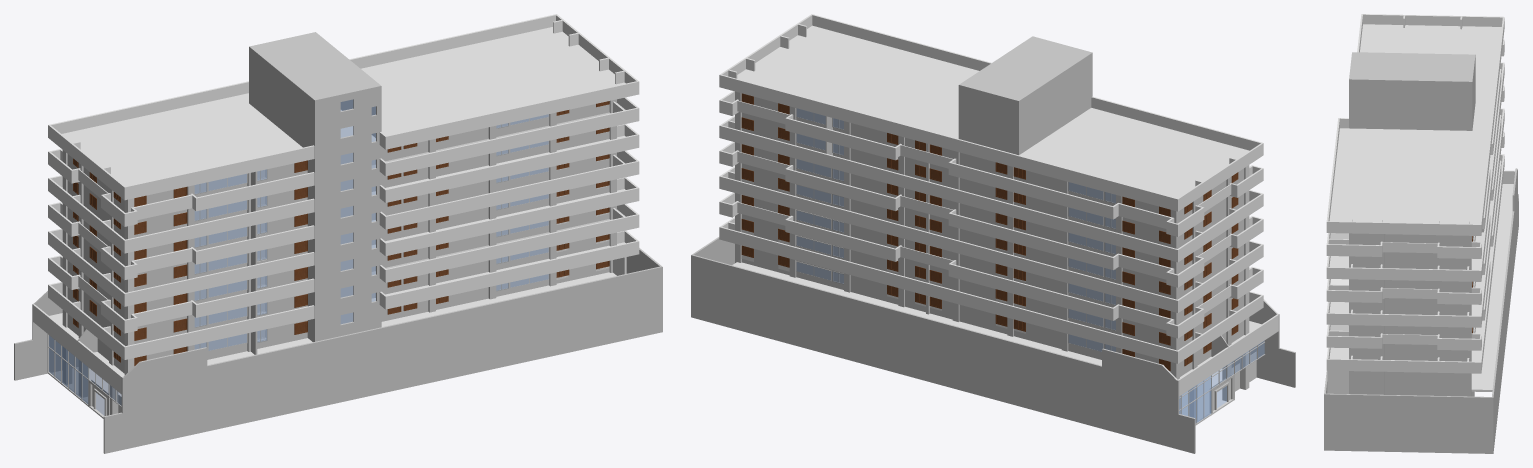
Rendered from cau.glb.
The picture shows the model from 3 angles, left to right: view 1: azimuth 30°, elevation 25°; view 2: azimuth 150°, elevation 25°; view 3: azimuth 270°, elevation 25°; orthographic projection. The views are drawn at different scales.
Parts seen in each view (by area): view 1: CAU1; view 2: CAU1; view 3: CAU1.
Boxes of the visible parts, x1,y1,x2,y2 form: CAU1: (14,14,662,453); CAU1: (691,14,1295,453); CAU1: (1324,14,1518,453).
Bounding box in the file's own units: 62.85 × 32.75 × 22.34.
Materials: 7 (2 with a texture image).
